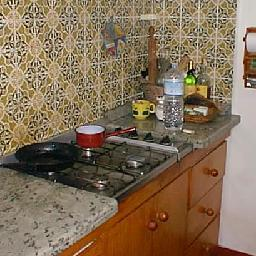Electrodomestico: (30, 130, 186, 207)
